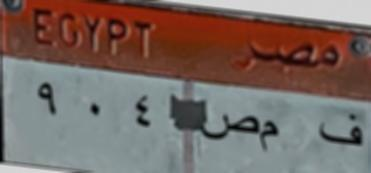0: (84, 99, 103, 124)
4: (133, 92, 153, 135)
9: (36, 77, 60, 120)
faa: (316, 108, 365, 152)
meem: (261, 116, 282, 158)
saad: (200, 108, 258, 146)
